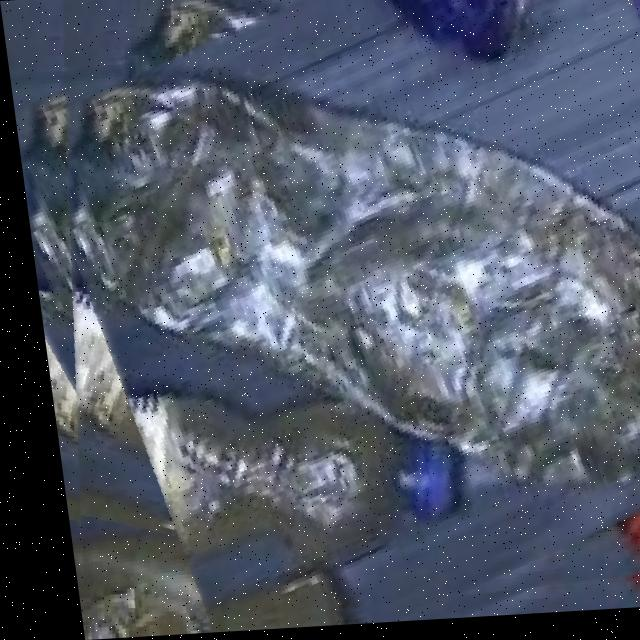plasticbottle: (0, 0, 640, 640), (30, 271, 413, 589)
